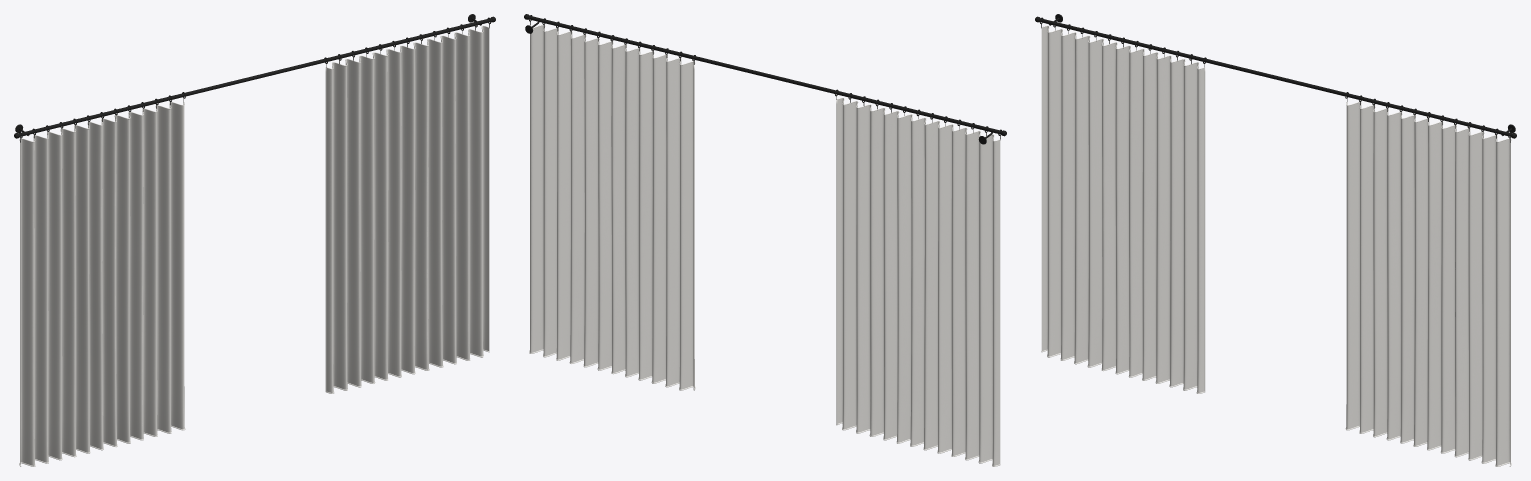
File: cortina_onda_360_c70.glb
3 renders of one model, left to right at view 1: azimuth 30°, elevation 25°; view 2: azimuth 150°, elevation 25°; view 3: azimuth 330°, elevation 25°, orthographic.
Parts seen in each view (by area): view 1: cortina_onda_360_c70; view 2: cortina_onda_360_c70; view 3: cortina_onda_360_c70.
Boxes of the visible parts, x1,y1,x2,y2 form: cortina_onda_360_c70: (14, 14, 495, 466); cortina_onda_360_c70: (524, 14, 1006, 466); cortina_onda_360_c70: (1035, 14, 1516, 466).
Bounding box in the file's own units: 3.6 × 2.39 × 0.1789.
2 materials, 1 textured.
